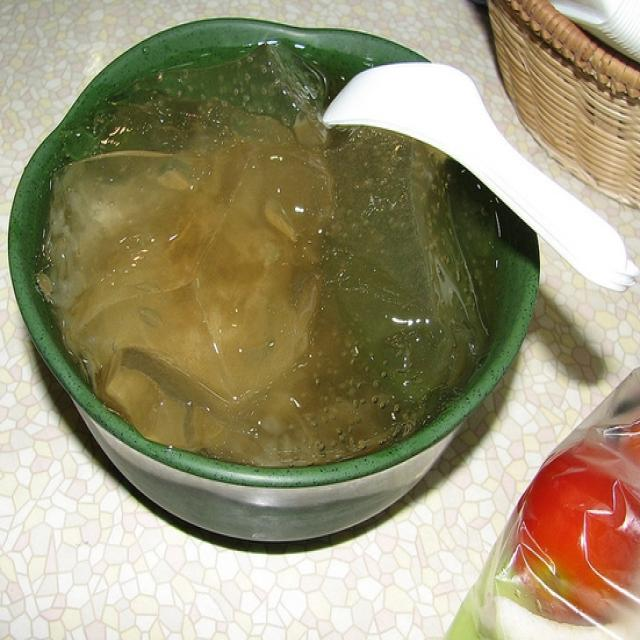蛋糕甜品: (20, 18, 574, 599)
